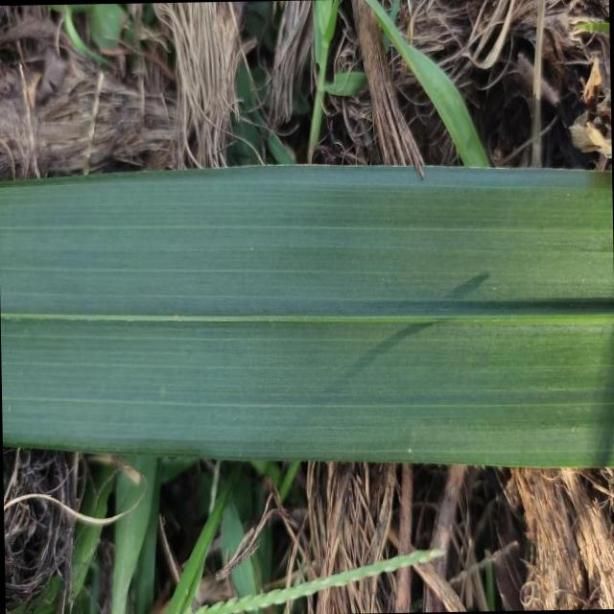Healthy: (0, 163, 614, 467)
